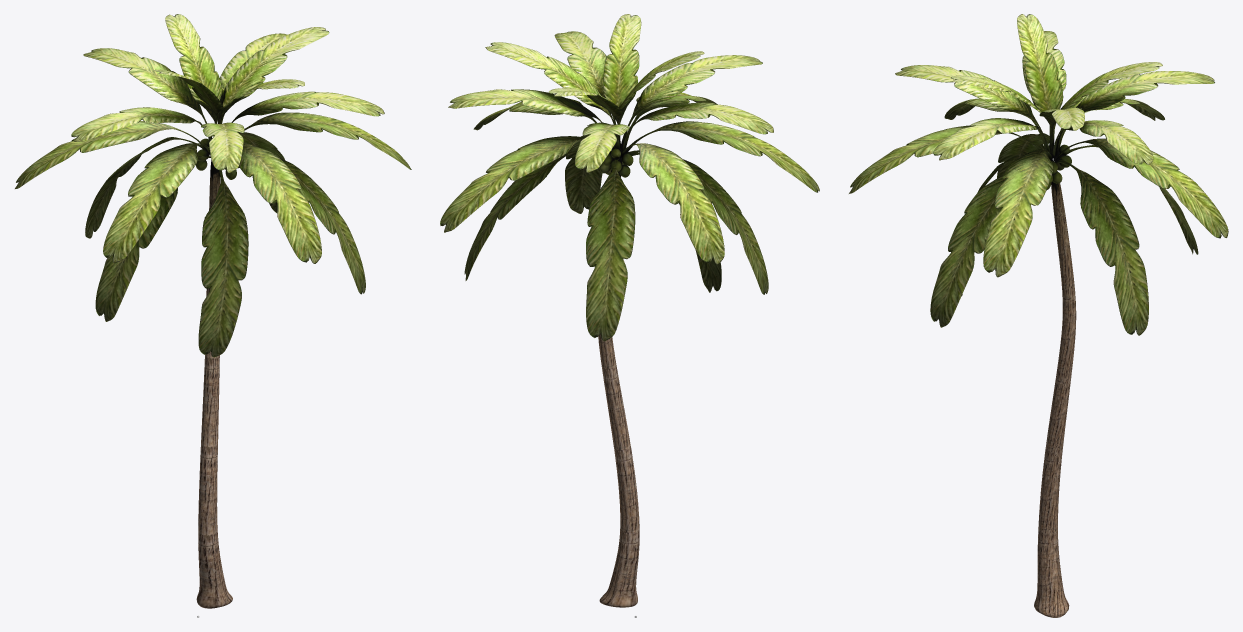
File: coconut.fbx
3 views of the same model, side by side, from view 1: azimuth 30°, elevation 25°; view 2: azimuth 150°, elevation 25°; view 3: azimuth 270°, elevation 25° (orthographic).
Visible parts, largest first — view 1: 10446_Palm_Tree_v1_max2010_iteration-2; view 2: 10446_Palm_Tree_v1_max2010_iteration-2; view 3: 10446_Palm_Tree_v1_max2010_iteration-2.
Part boxes in pixels (x1=…): 10446_Palm_Tree_v1_max2010_iteration-2: x1=15, y1=14, x2=411, y2=608; 10446_Palm_Tree_v1_max2010_iteration-2: x1=440, y1=14, x2=819, y2=607; 10446_Palm_Tree_v1_max2010_iteration-2: x1=849, y1=14, x2=1228, y2=617.
Bounding box in the file's own units: 46562 × 78071 × 46978.
